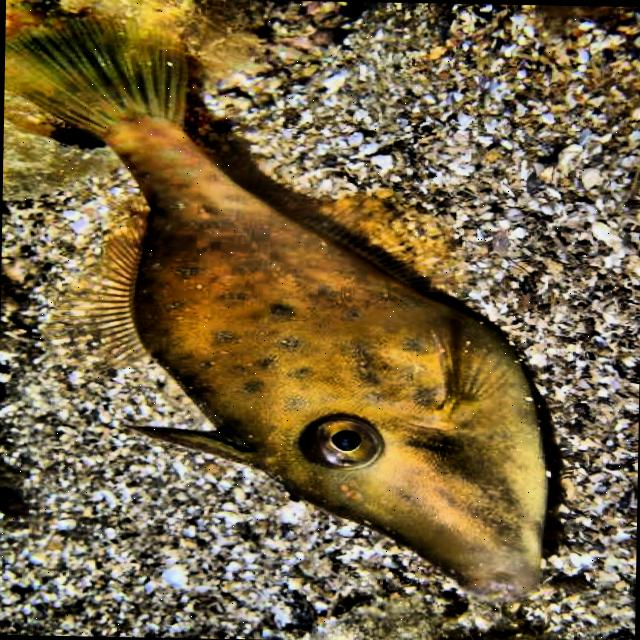fish: (0, 0, 562, 603)
